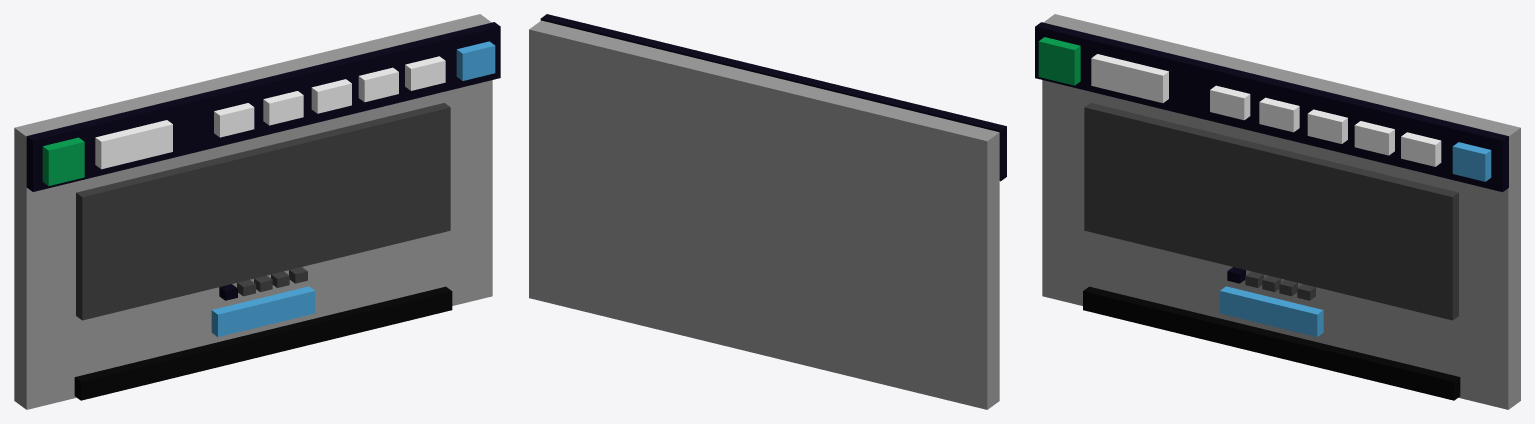
File: iic.glb
The picture shows the model from 3 angles, left to right: view 1: azimuth 30°, elevation 25°; view 2: azimuth 150°, elevation 25°; view 3: azimuth 330°, elevation 25°; orthographic projection.
Parts seen in each view (by area): view 1: Cube.017; view 2: Cube.017; view 3: Cube.017.
Part boxes in pixels (left/top/right/bottom): Cube.017: left=14, top=14, right=500, bottom=409; Cube.017: left=529, top=14, right=1006, bottom=409; Cube.017: left=1035, top=14, right=1520, bottom=409.
Size of the model in its own units: 22 by 12.34 by 2.06.
